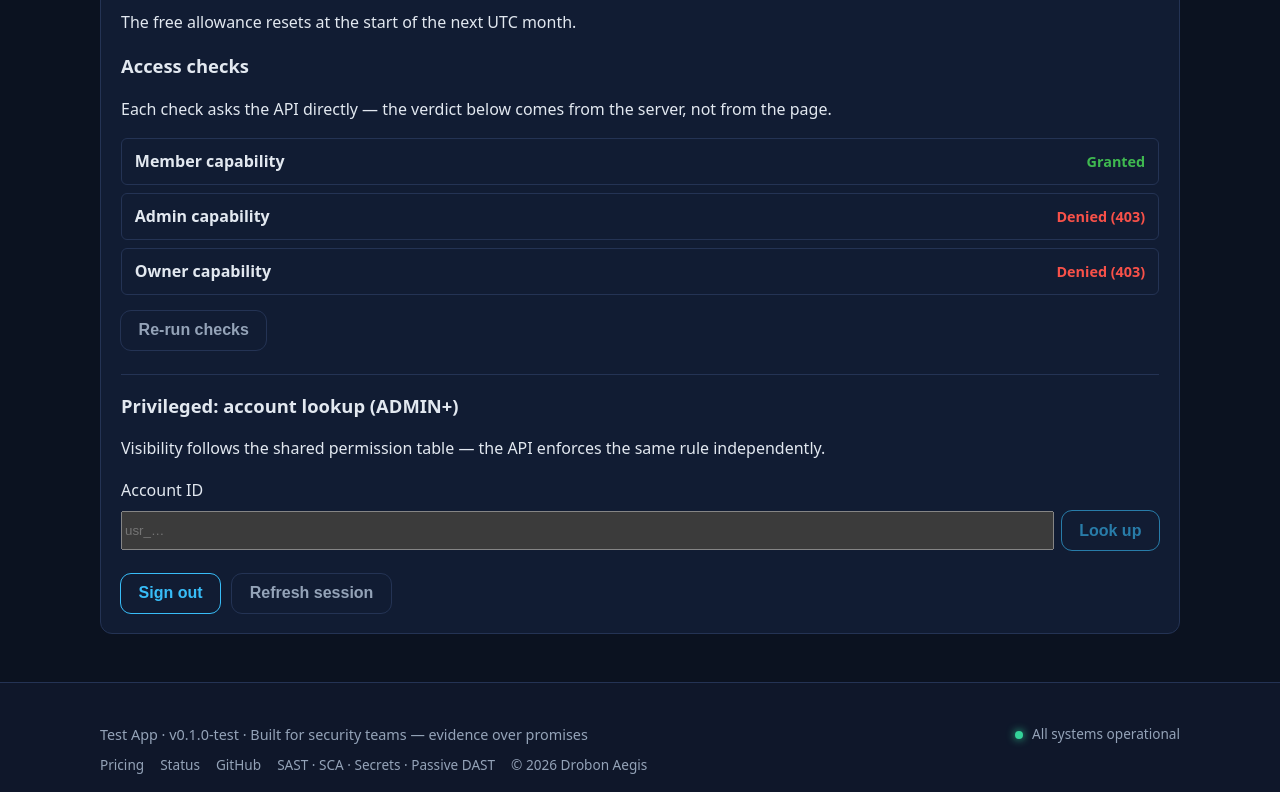
Test case: privileged lookup visibility (UX defense-in-depth) › ADMIN sees it, and a denied lookup renders the forbidden message
The image size is (1280, 792).
(page scrolled)
# Type an id and submit — the API's 403 is what the UI shows.
Step 1. Type "usr_someone-else" into the field labelled "Account ID" → (587, 531), box [121,511,1054,550]
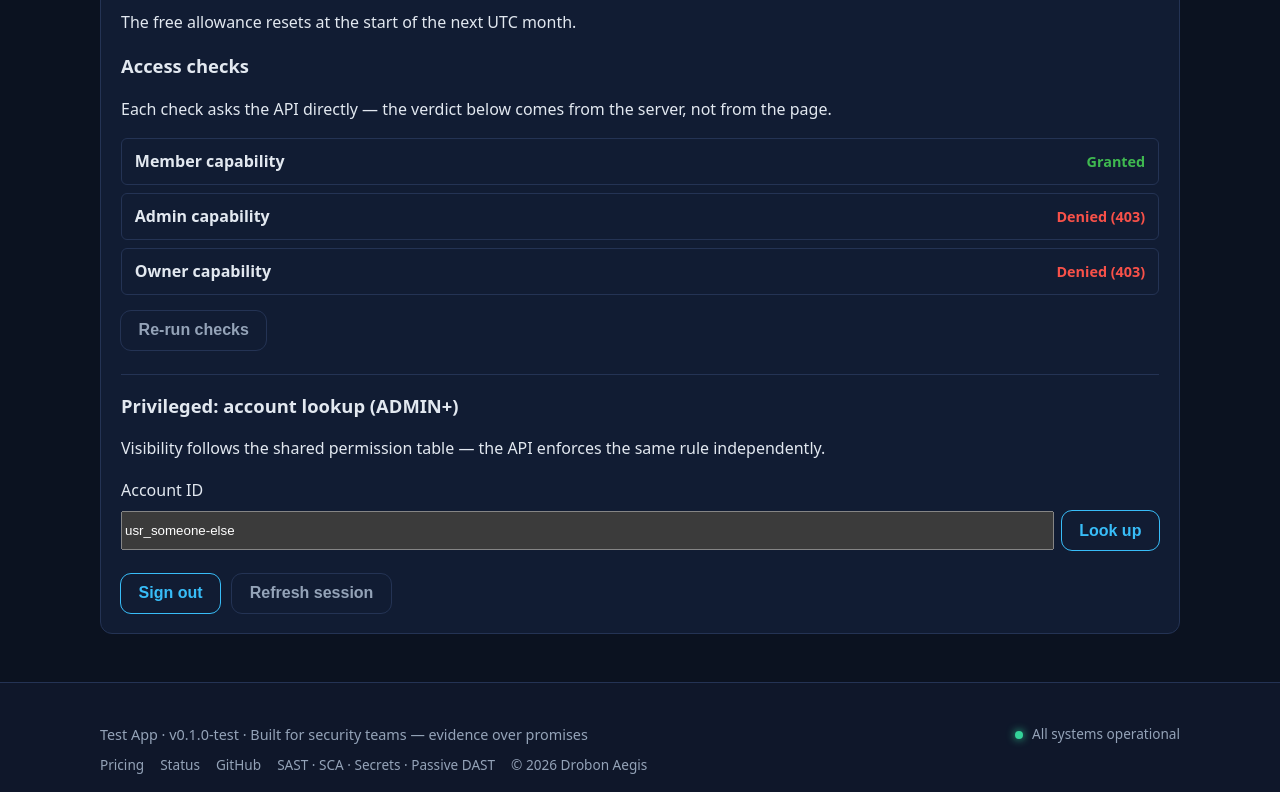
Step 2. Click the button "Look up" → (1110, 531), box [1062,511,1159,550]
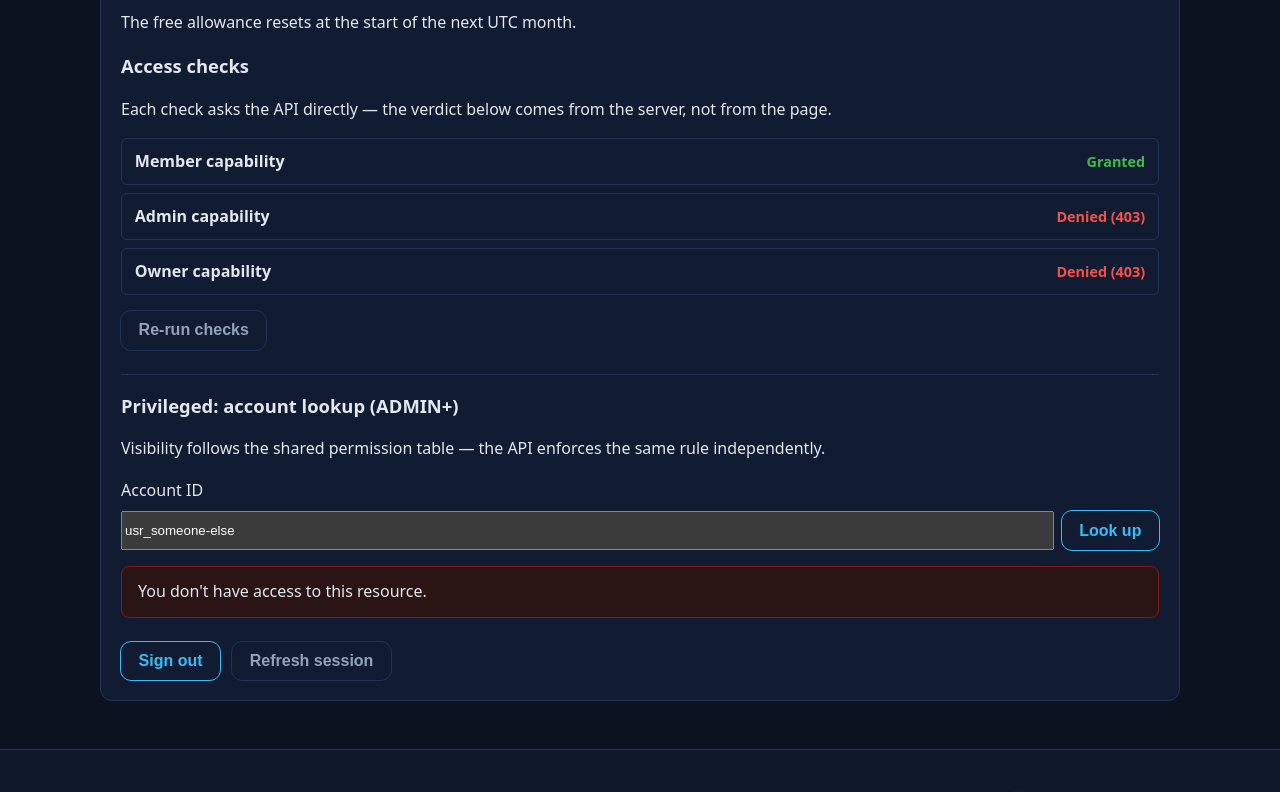
Expected: the message with test id "lookup-denied" reads "You don't have access to this resource.", [138,580,427,602]
